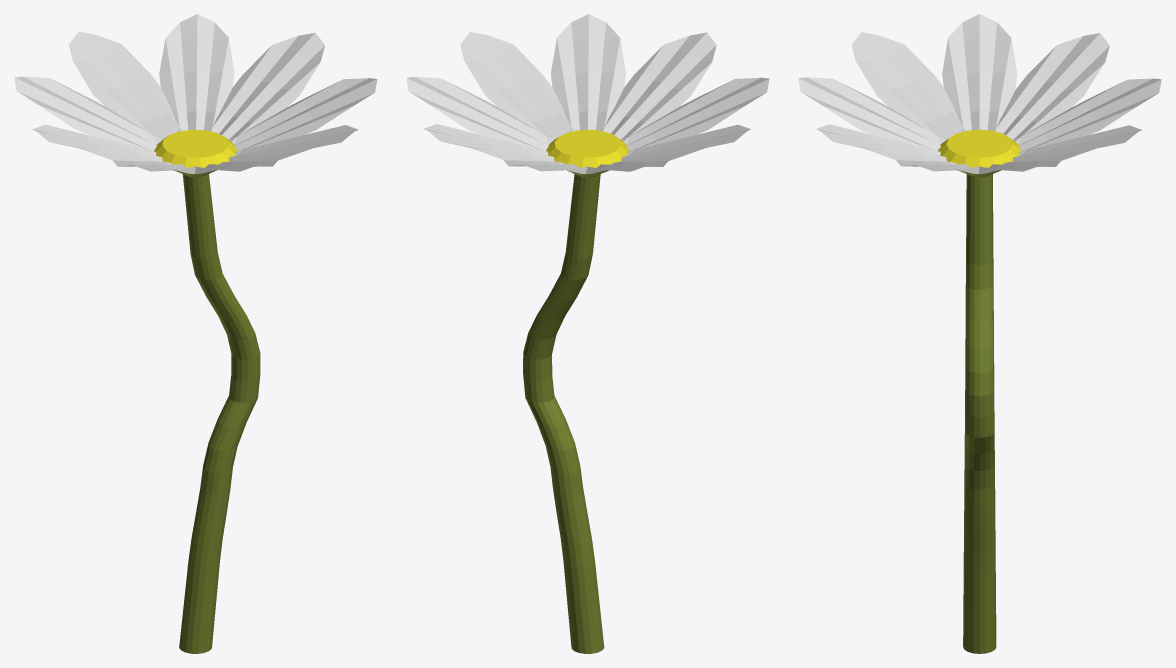
Rendered from Flower.fbx.
3 renders of one model, left to right at view 1: azimuth 30°, elevation 25°; view 2: azimuth 150°, elevation 25°; view 3: azimuth 270°, elevation 25°, orthographic.
Parts seen in each view (by area): view 1: Circle, Circle.001; view 2: Circle, Circle.001; view 3: Circle, Circle.001.
Boxes of the visible parts, x1,y1,x2,y2 form: Circle: (14, 14, 377, 173); Circle.001: (154, 129, 260, 653); Circle: (406, 14, 769, 173); Circle.001: (523, 129, 629, 653); Circle: (798, 14, 1161, 173); Circle.001: (938, 129, 1021, 653).
Size of the model in its own units: 19.57 by 33.37 by 19.82.
